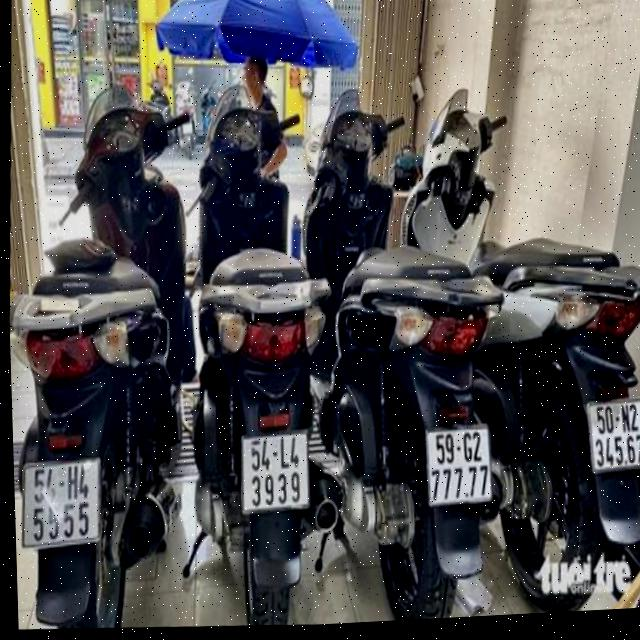motorcycle: (377, 71, 640, 621), (281, 68, 519, 626), (2, 73, 213, 632), (170, 87, 345, 621)
plate: (13, 449, 107, 554), (420, 416, 500, 511), (236, 423, 315, 518), (582, 386, 640, 479)
